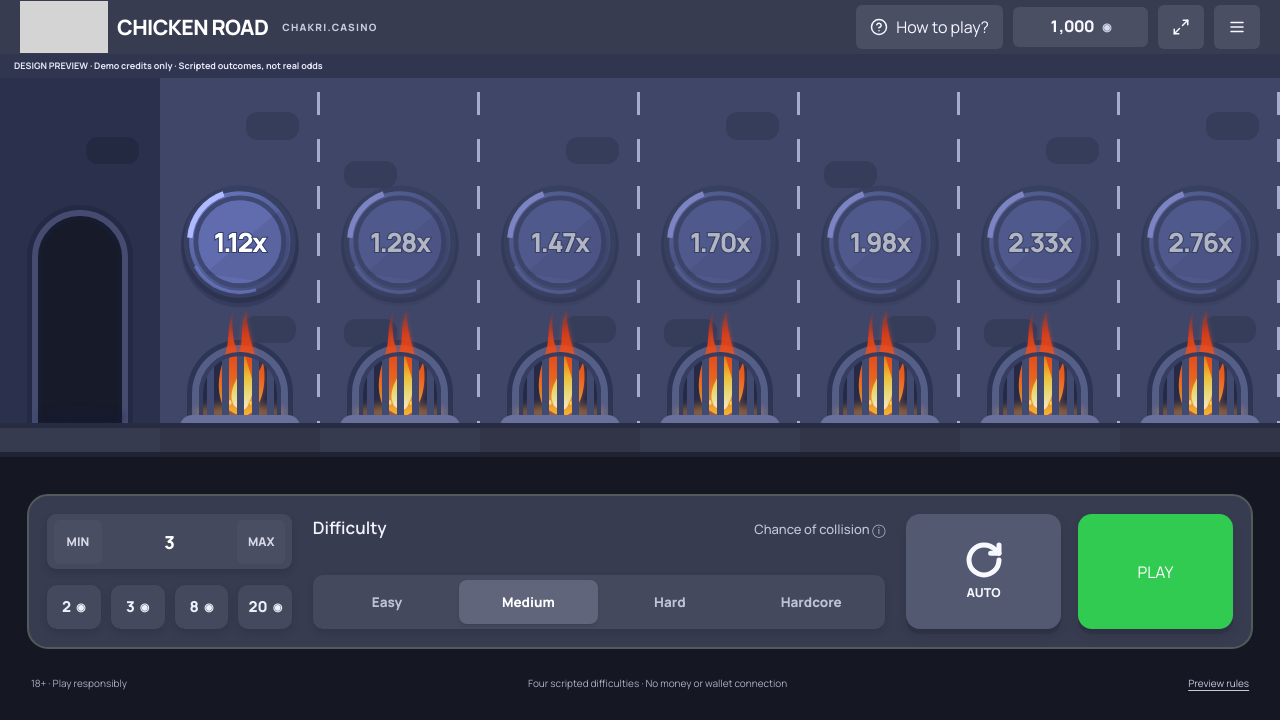
it: Hardcore is playable only as a local scripted preview with its own ladder
Later steps or results of the test are not shown.
Click the button "Hardcore" at (811, 602), box [742,580,880,624]
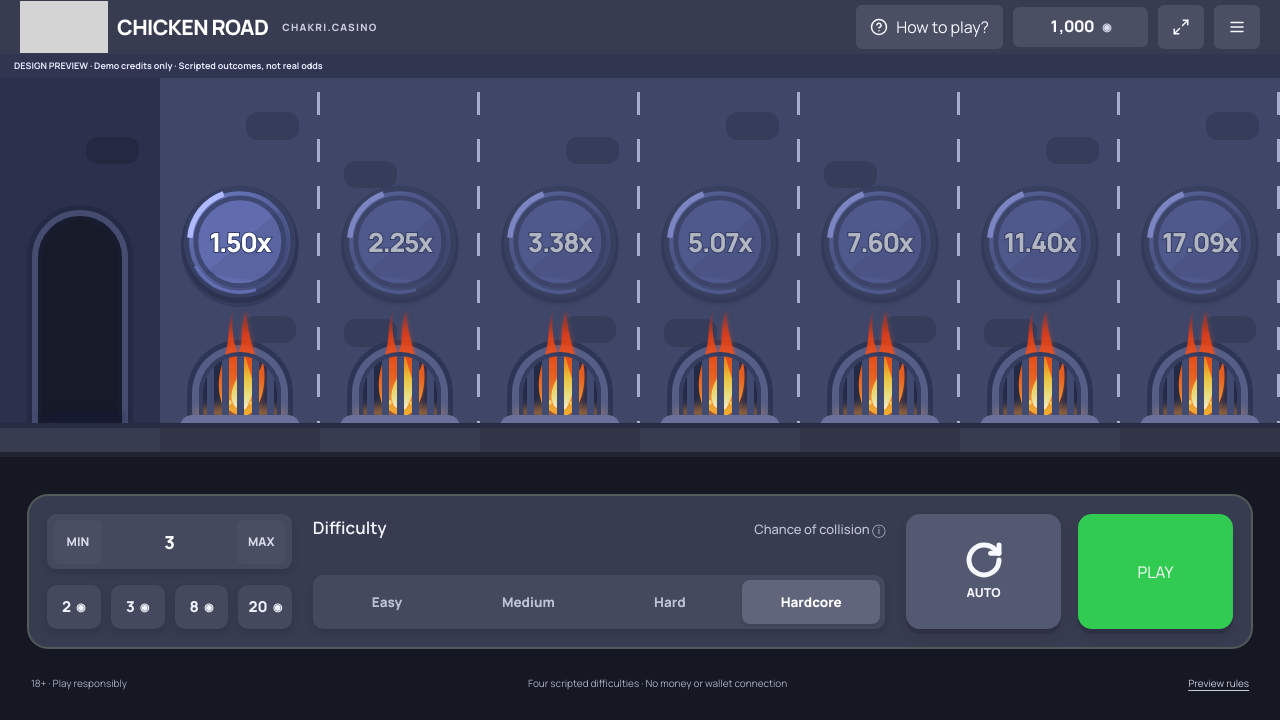
Check: the button "Hardcore" is pressed, box [742,580,880,624]
